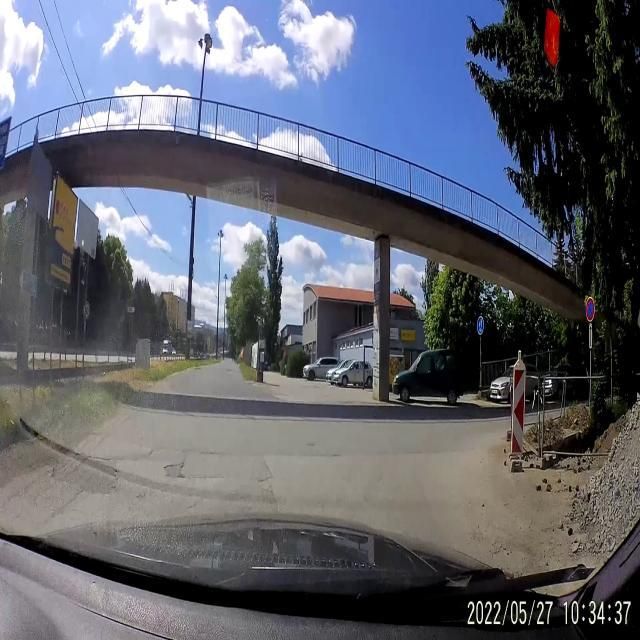Pothole: (51, 446, 120, 496), (164, 458, 189, 484), (314, 448, 341, 466), (256, 472, 278, 492), (304, 440, 318, 452)
